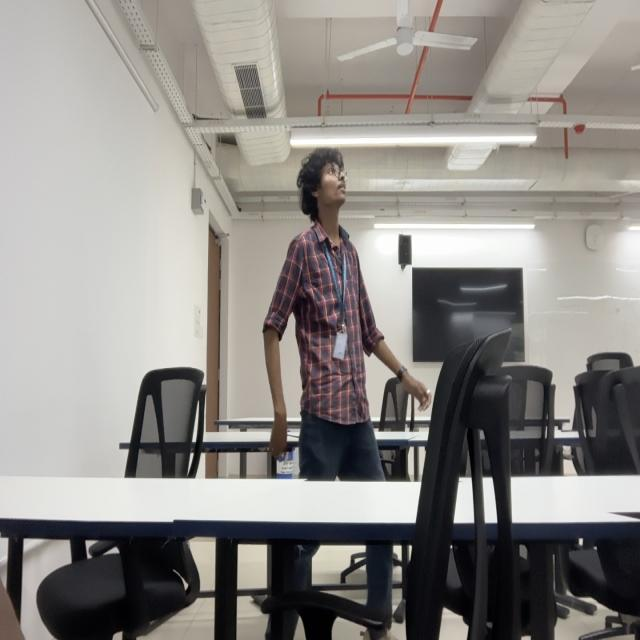darshan: (297, 140, 349, 216)
